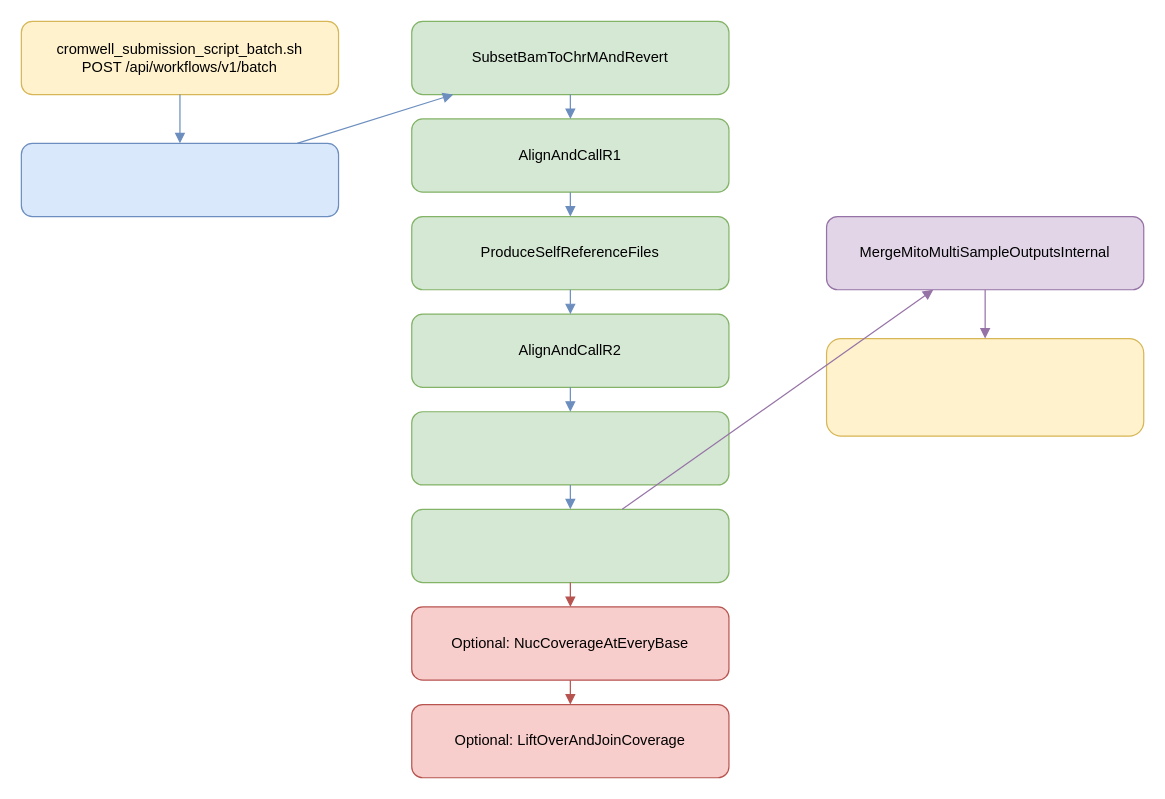
Some shapes in this 1165 by 799 pixel diagram are drawn without their labels. The box of each missing label's shape, as (x1, y1, x2, y2) in pixels:
MitochondriaPipelineWrapper (scatter): (20, 142, 339, 217)
MongoLiftoverSelfAndCollectOutputs: (411, 508, 729, 583)
MongoLiftoverVCFAndGetCoverage: (411, 411, 729, 485)
Outputs: final_vcf, stats, coverage, merged files: (825, 337, 1144, 436)
